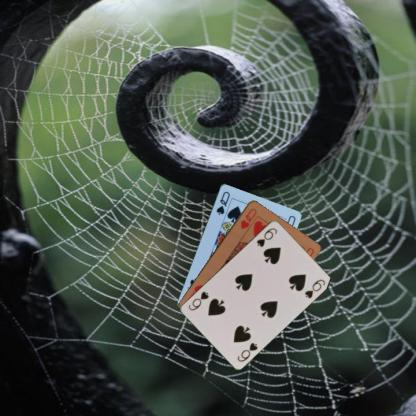6s: (234, 340, 259, 363), (254, 226, 279, 248)
Qh: (238, 206, 258, 230)
Qs: (214, 188, 232, 216)
